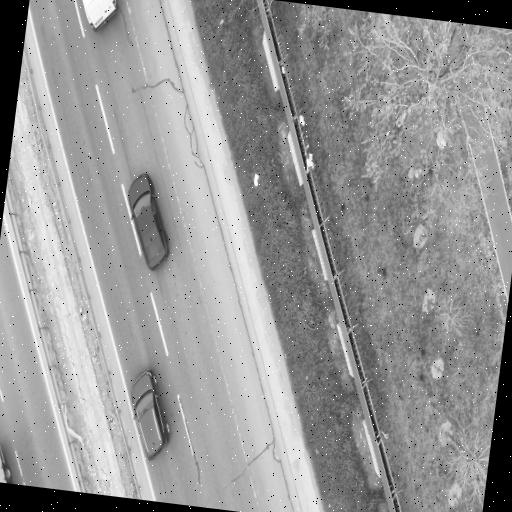car: (129, 174, 168, 270), (131, 370, 169, 460)
truck: (83, 0, 116, 30), (0, 447, 11, 482)
